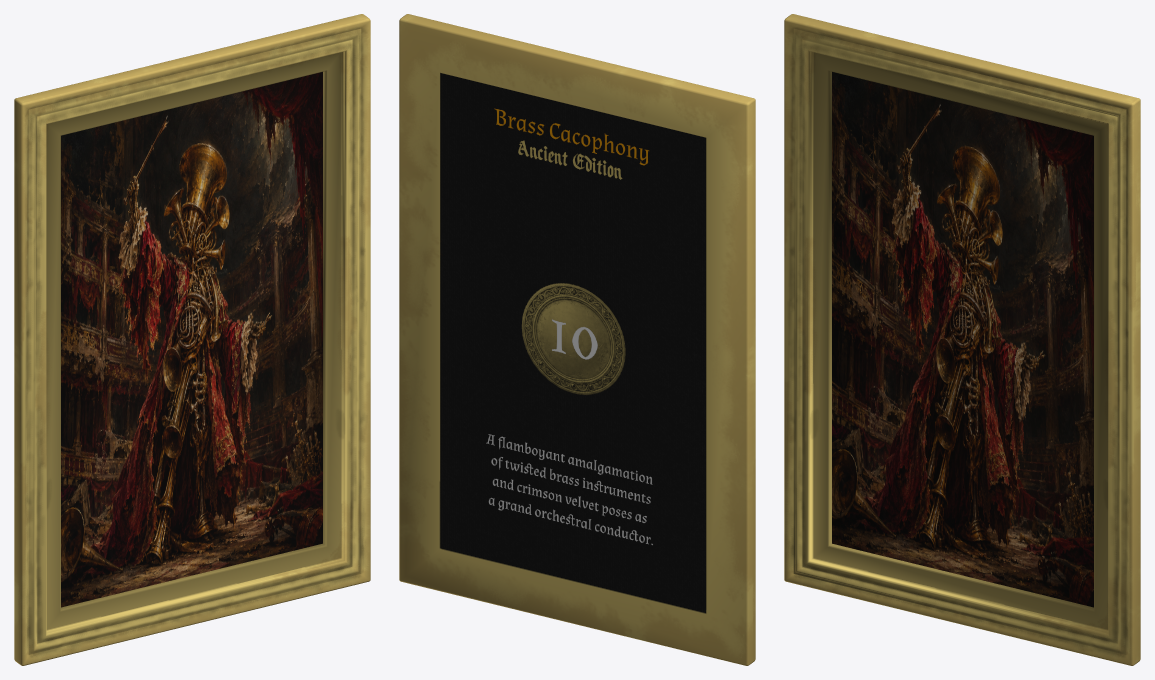
Rendered from nft10.glb.
3 views of the same model, side by side, from view 1: azimuth 30°, elevation 25°; view 2: azimuth 150°, elevation 25°; view 3: azimuth 330°, elevation 25° (orthographic).
Parts seen in each view (by area): view 1: LIENZO, MARCO; view 2: MARCO; view 3: LIENZO, MARCO.
Boxes of the visible parts, x1,y1,x2,y2 form: LIENZO: (61, 72, 322, 607); MARCO: (14, 14, 370, 665); MARCO: (399, 14, 755, 665); LIENZO: (832, 72, 1093, 607); MARCO: (784, 14, 1140, 665).
Bounding box in the file's own units: 0.4615 × 0.7104 × 0.0195.
Materials: 2 (2 with a texture image).
